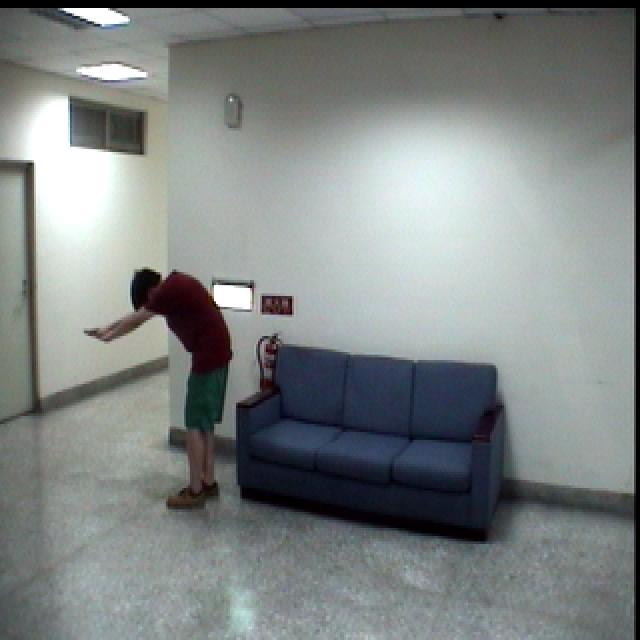bend: (81, 265, 236, 517)
